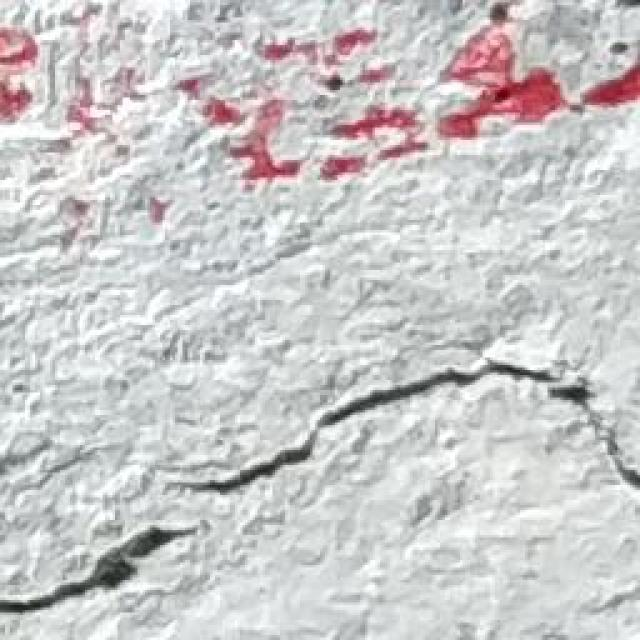Rippled: (0, 0, 640, 231)
Transverse: (0, 349, 640, 611)
